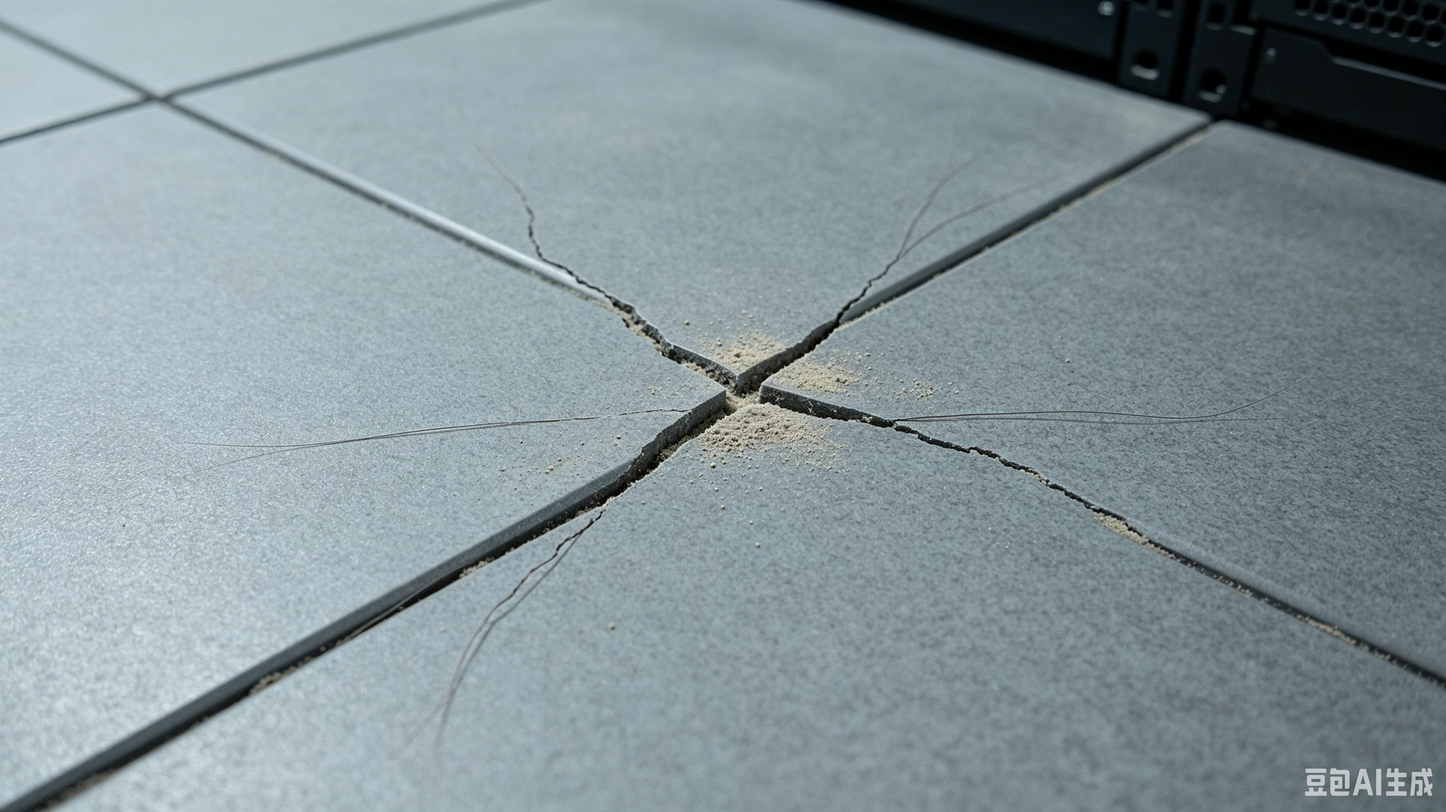floor_defect: (546, 257, 1062, 497), (474, 146, 572, 252)
